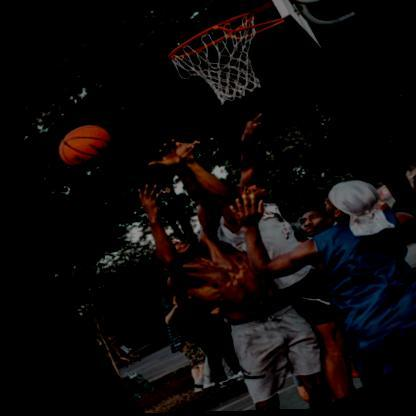basketball: (42, 116, 117, 175)
rim: (153, 6, 293, 120)
